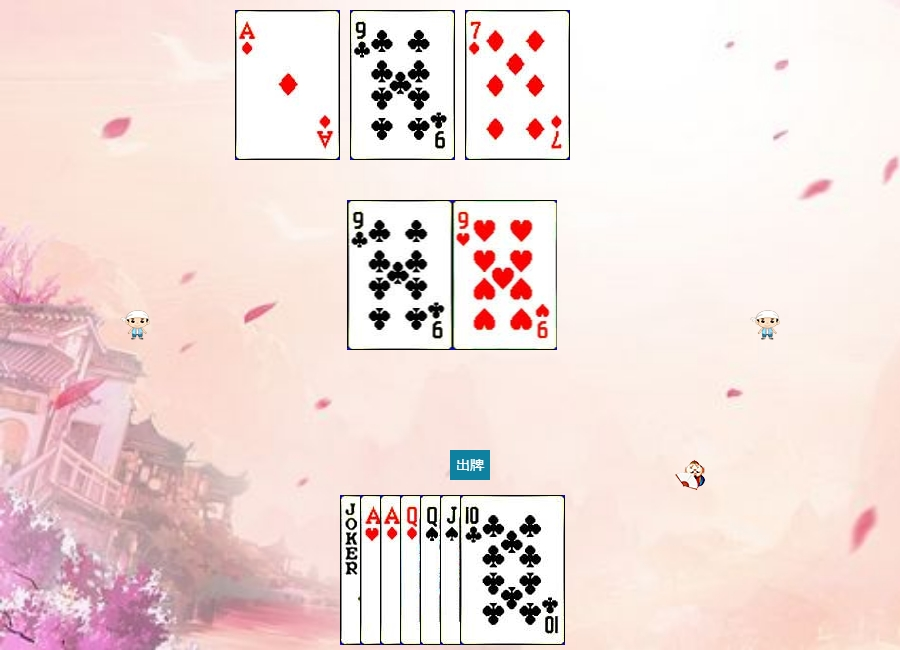10~2: (460, 495, 565, 645)
11~4: (440, 495, 545, 645)
12~1: (400, 495, 505, 645)
12~4: (420, 495, 525, 645)
14~1: (235, 10, 340, 160), (380, 495, 485, 645)
14~3: (360, 495, 465, 645)
17~3: (340, 495, 445, 645)
7~1: (465, 10, 570, 160)
9~2: (350, 10, 455, 160), (348, 200, 453, 350)
9~3: (453, 200, 558, 350)
